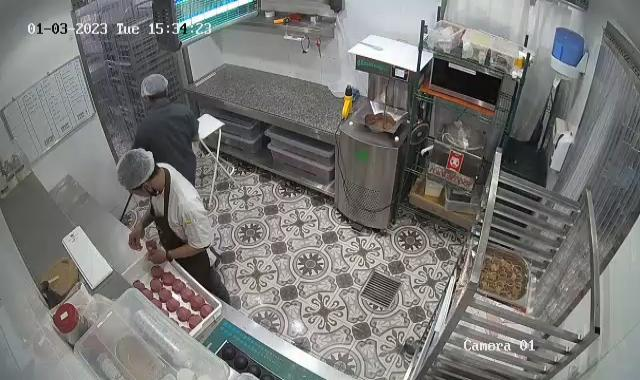hairnet: (113, 148, 155, 190), (140, 73, 170, 101)
